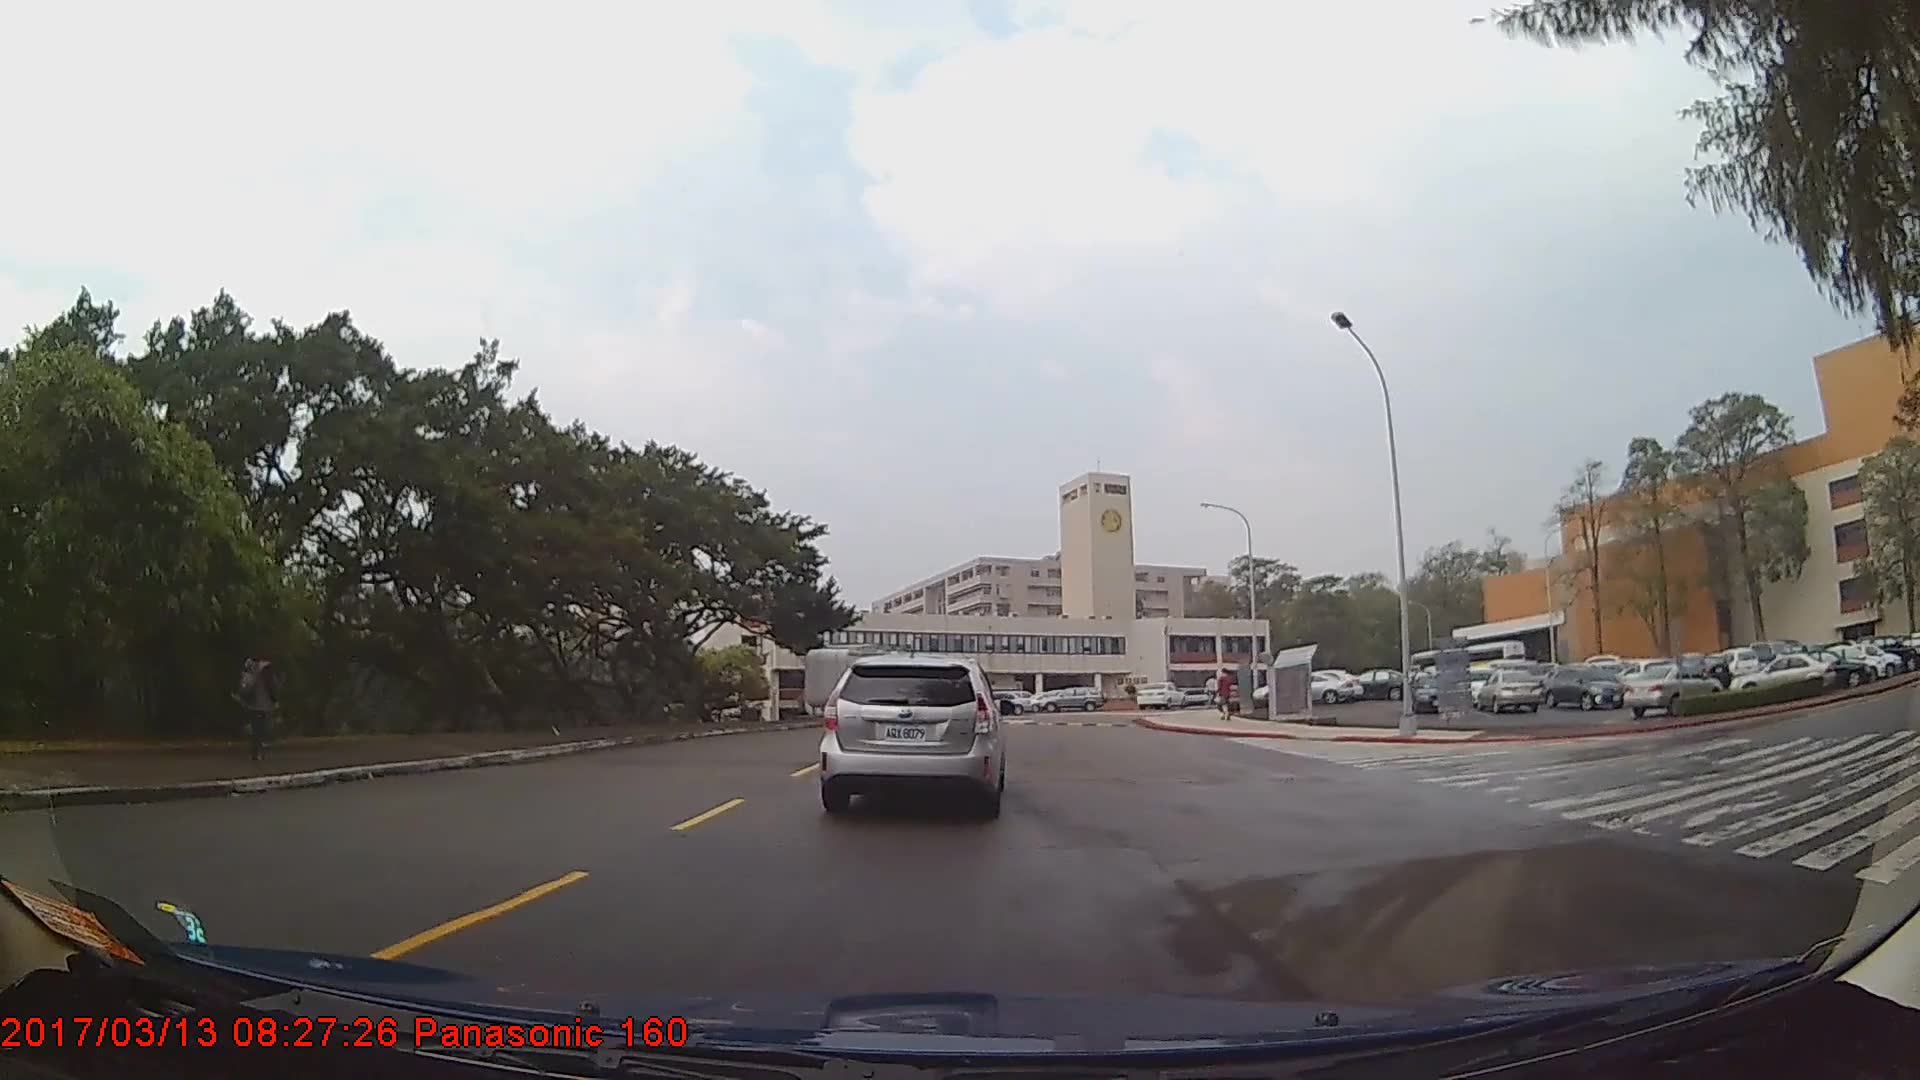pedestrian: (225, 645, 278, 765), (1215, 667, 1237, 723)
vehicle: (820, 652, 1001, 815), (1728, 649, 1833, 700), (1625, 661, 1720, 717), (1778, 643, 1873, 688), (1545, 662, 1628, 711), (1252, 671, 1351, 707), (1478, 667, 1542, 715), (1345, 667, 1412, 702), (1408, 674, 1456, 716), (1039, 685, 1108, 712), (1133, 679, 1183, 711), (976, 690, 1033, 715)
